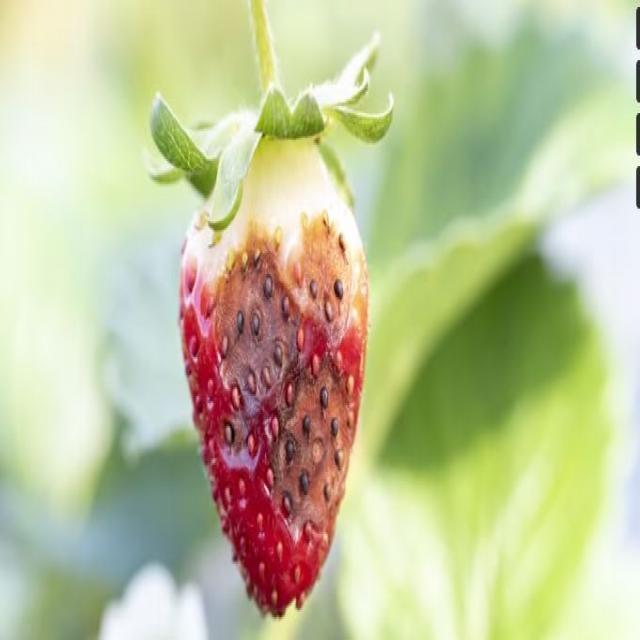Mancha negra Antracnosis: (162, 97, 382, 617)
